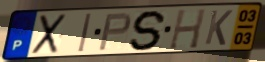H: (167, 8, 208, 51)
I: (77, 12, 93, 53)
K: (203, 9, 235, 47)
P: (96, 11, 133, 52)
S: (128, 9, 169, 52)
X: (29, 12, 69, 56)
